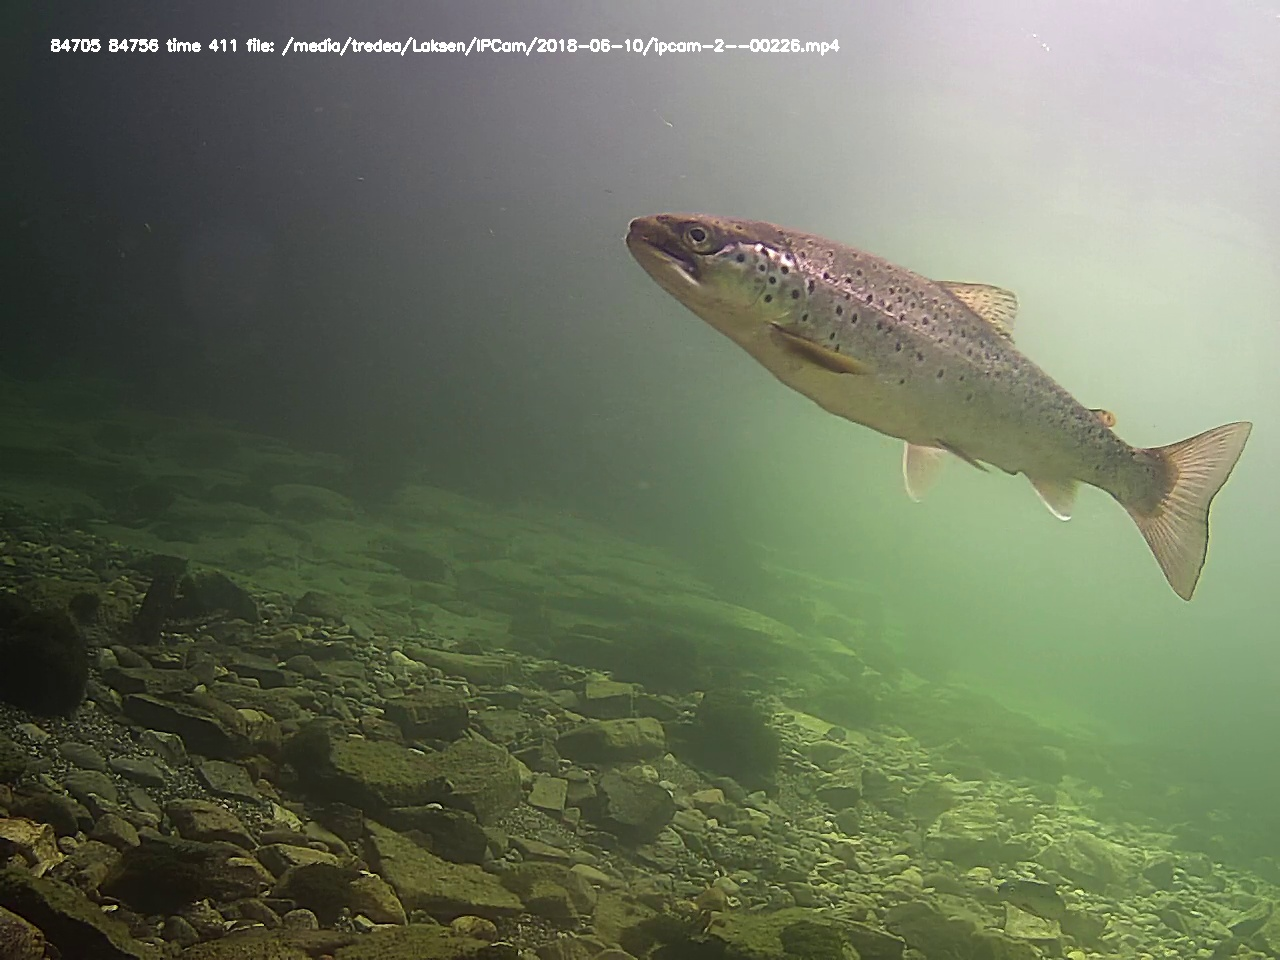salmon: (620, 198, 1259, 607)
